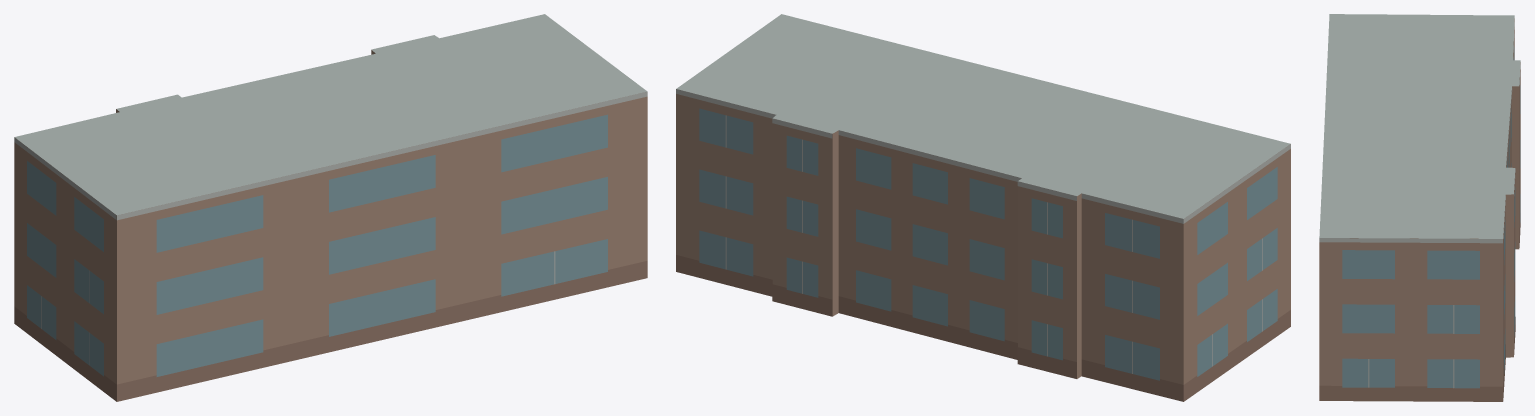
File: survey-upis-33012714.glb
The picture shows the model from 3 angles, left to right: view 1: azimuth 30°, elevation 25°; view 2: azimuth 150°, elevation 25°; view 3: azimuth 270°, elevation 25°; orthographic projection. The views are drawn at different scales.
Visible parts, largest first — view 1: survey-upis-33012714.tmp; view 2: survey-upis-33012714.tmp; view 3: survey-upis-33012714.tmp.
Part boxes in pixels (x1,y1,x2,y2): survey-upis-33012714.tmp: [14, 14, 647, 401]; survey-upis-33012714.tmp: [676, 14, 1290, 401]; survey-upis-33012714.tmp: [1319, 14, 1520, 401].
Size of the model in its own units: 27.09 by 9.15 by 10.25.
